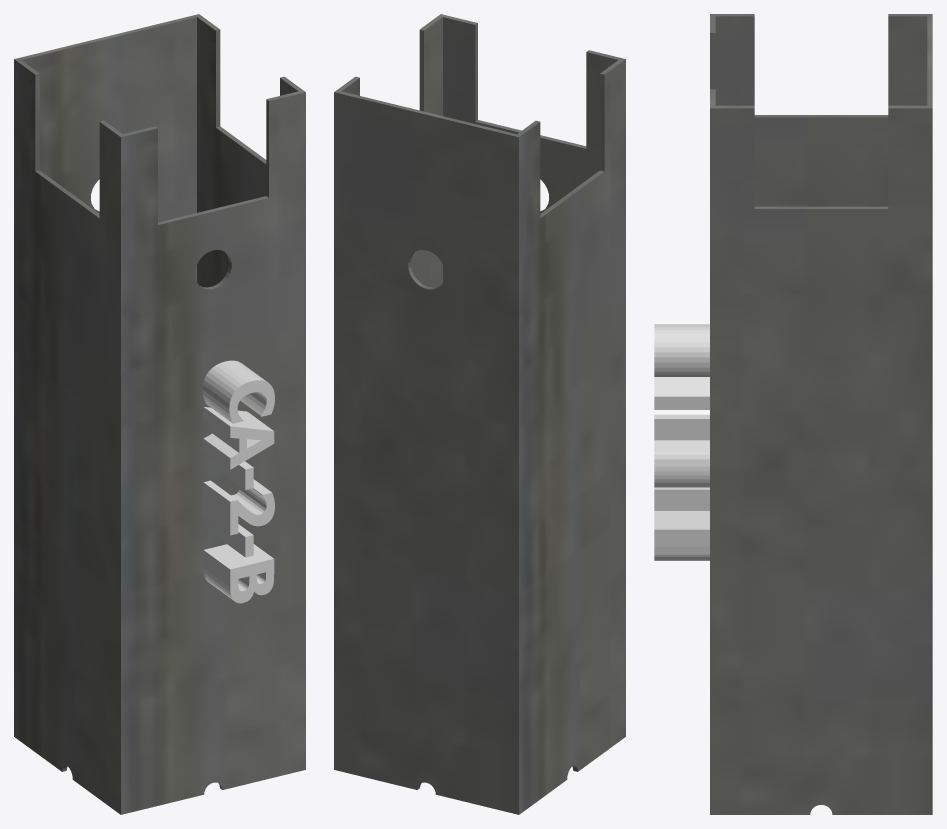
The model's file is CA-2B elvara 2.glb.
3 views of the same model, side by side, from view 1: azimuth 30°, elevation 25°; view 2: azimuth 150°, elevation 25°; view 3: azimuth 270°, elevation 25° (orthographic). The views are drawn at different scales.
Parts seen in each view (by area): view 1: G-Object, C-CA-2-B; view 2: G-Object; view 3: G-Object, C-CA-2-B.
Boxes of the visible parts, left/top/right/bottom form: G-Object: left=14, top=14, right=305, bottom=814; C-CA-2-B: left=202, top=360, right=274, bottom=603; G-Object: left=334, top=14, right=625, bottom=814; G-Object: left=710, top=14, right=932, bottom=814; C-CA-2-B: left=654, top=324, right=709, bottom=560.
Bounding box in the file's own units: 0.1 × 0.35 × 0.125.
Materials: 2 (1 with a texture image).
